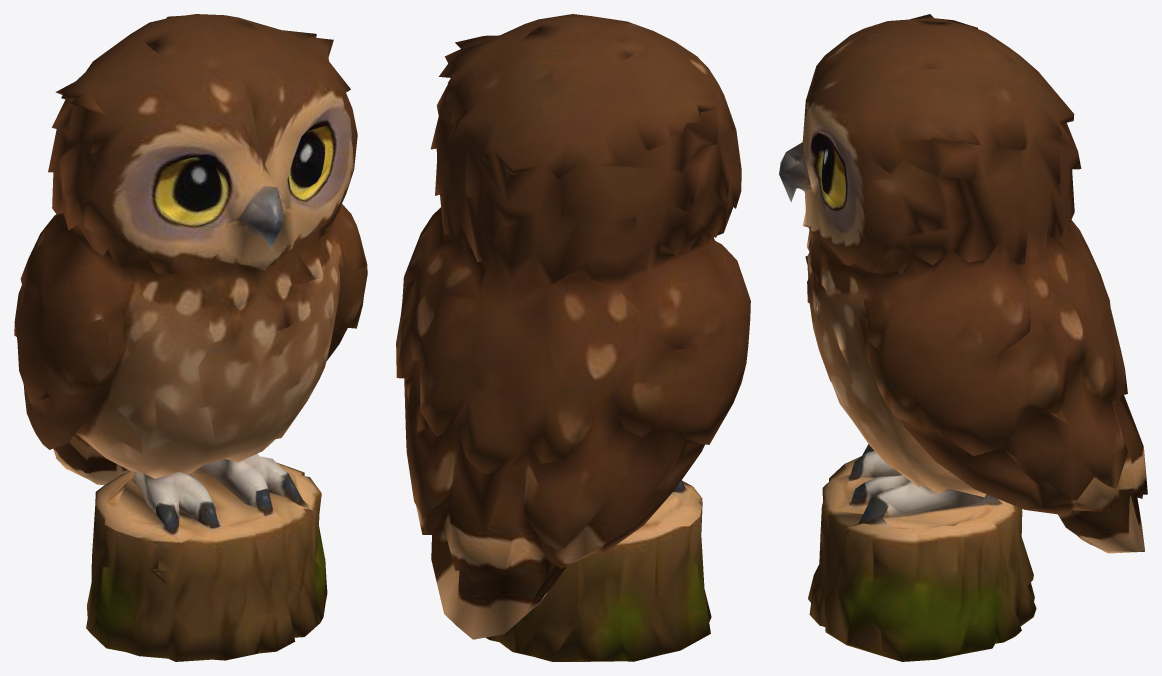
The model's file is ruru.glb.
3 renders of one model, left to right at view 1: azimuth 30°, elevation 25°; view 2: azimuth 150°, elevation 25°; view 3: azimuth 270°, elevation 25°, orthographic. The views are drawn at different scales.
Visible parts, largest first — view 1: model; view 2: model; view 3: model.
Boxes of the visible parts, x1,y1,x2,y2 form: model: (14, 14, 367, 661); model: (396, 14, 750, 661); model: (779, 14, 1147, 661).
Bounding box in the file's own units: 1.08 × 1.9 × 1.11.
1 material, 1 textured.
